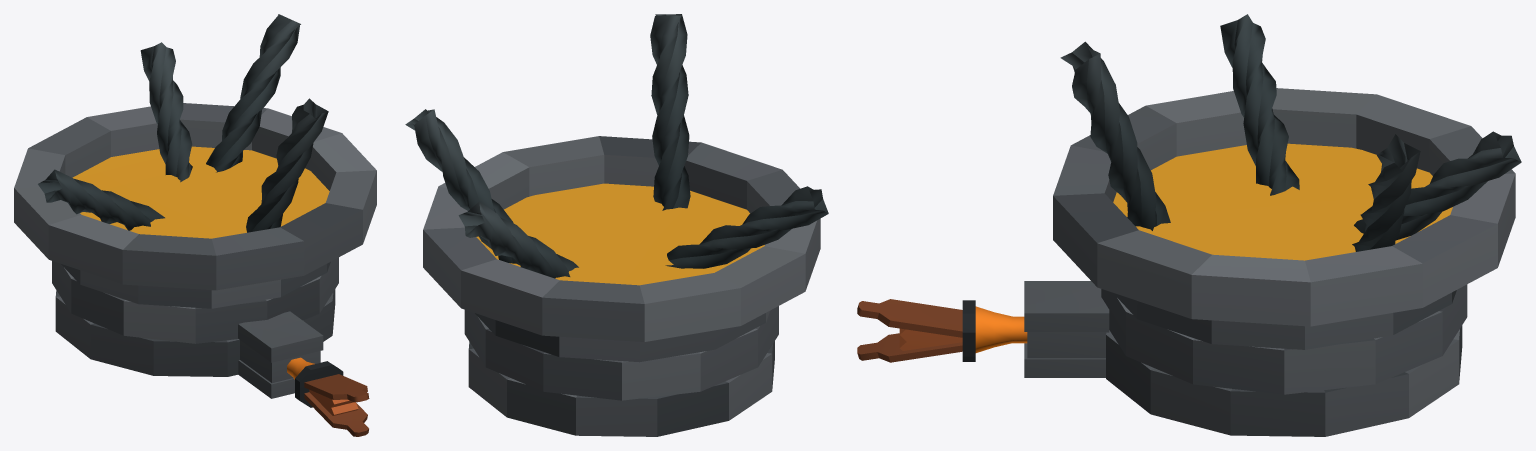
File: oven.fbx
The picture shows the model from 3 angles, left to right: view 1: azimuth 30°, elevation 25°; view 2: azimuth 150°, elevation 25°; view 3: azimuth 270°, elevation 25°; orthographic projection. The views are drawn at different scales.
Visible parts, largest first — view 1: oven; view 2: oven; view 3: oven.
Boxes of the visible parts, bbox=[...] form: oven: bbox=[14, 14, 376, 436]; oven: bbox=[405, 14, 828, 436]; oven: bbox=[857, 14, 1521, 436].
Bounding box in the file's own units: 14.3 × 11.01 × 19.8.
